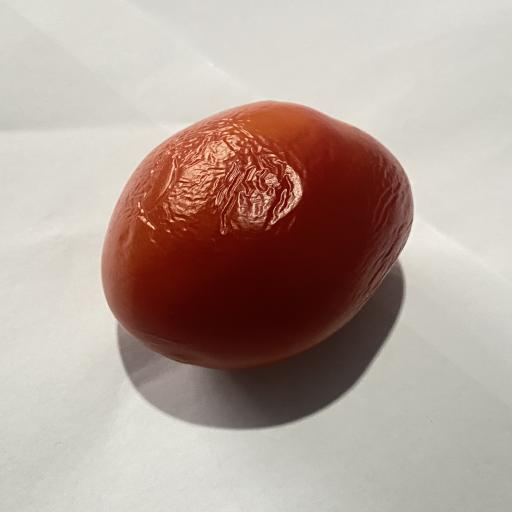spoiled: (102, 102, 413, 369)
